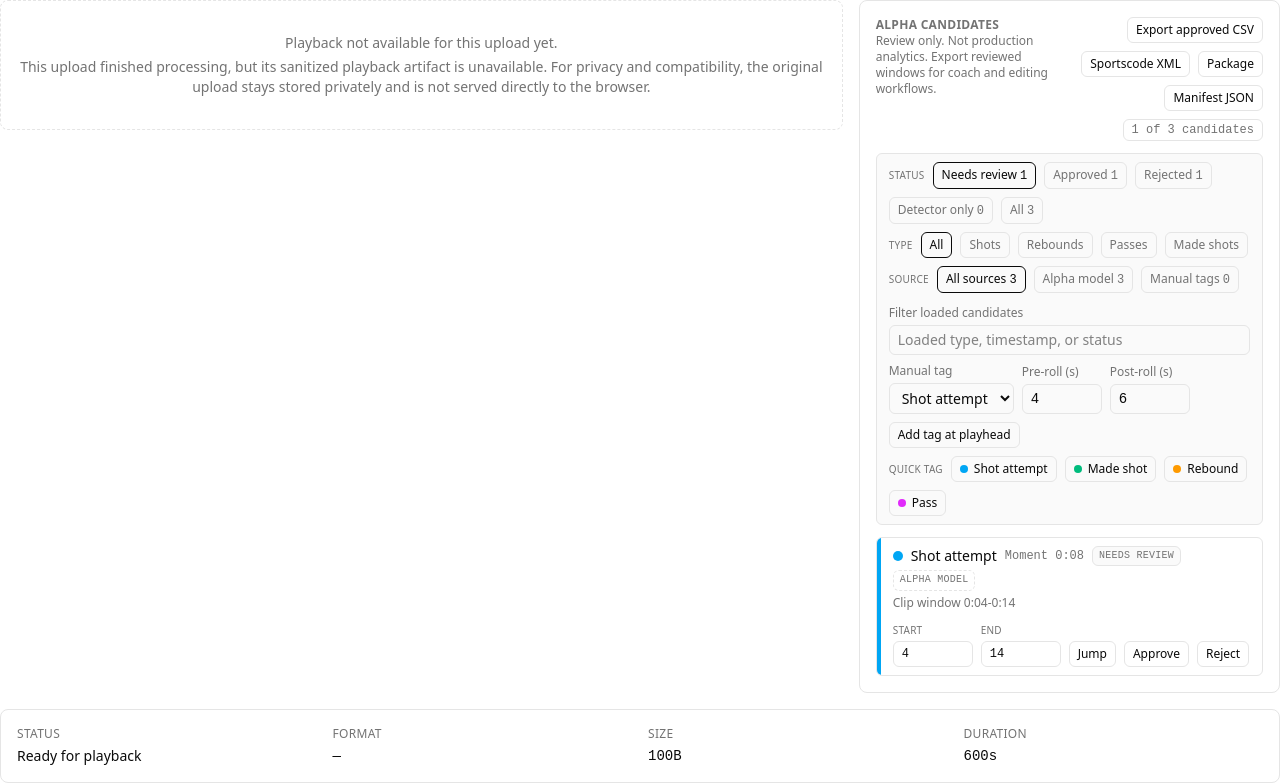
Test: VideoPlaybackView › filters candidates by event type and review status, and keeps reviewed candidates visible
Expected: the number of list items with test id "candidate-row" is 1, [877,538,1262,675]
Note: Approved candidates remain discoverable once the filter switches.
Click the button with test id "candidate-status-filter-approved".
click(1086, 176)  # box [1044,162,1127,189]
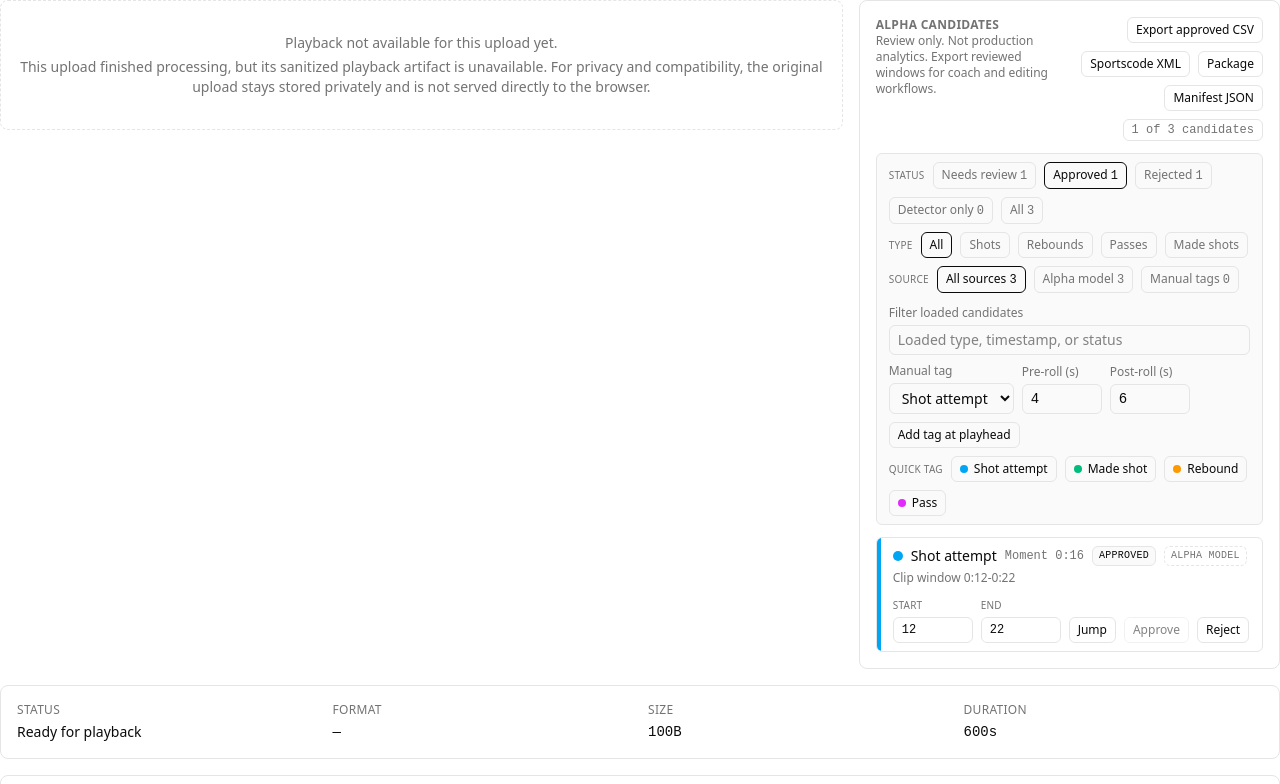
Expected: the number of list items with test id "candidate-row" is 1, [877,538,1262,651]
Note: Rejected too.
Click the button with test id "candidate-status-filter-rejected".
click(1173, 176)  # box [1135,162,1212,189]
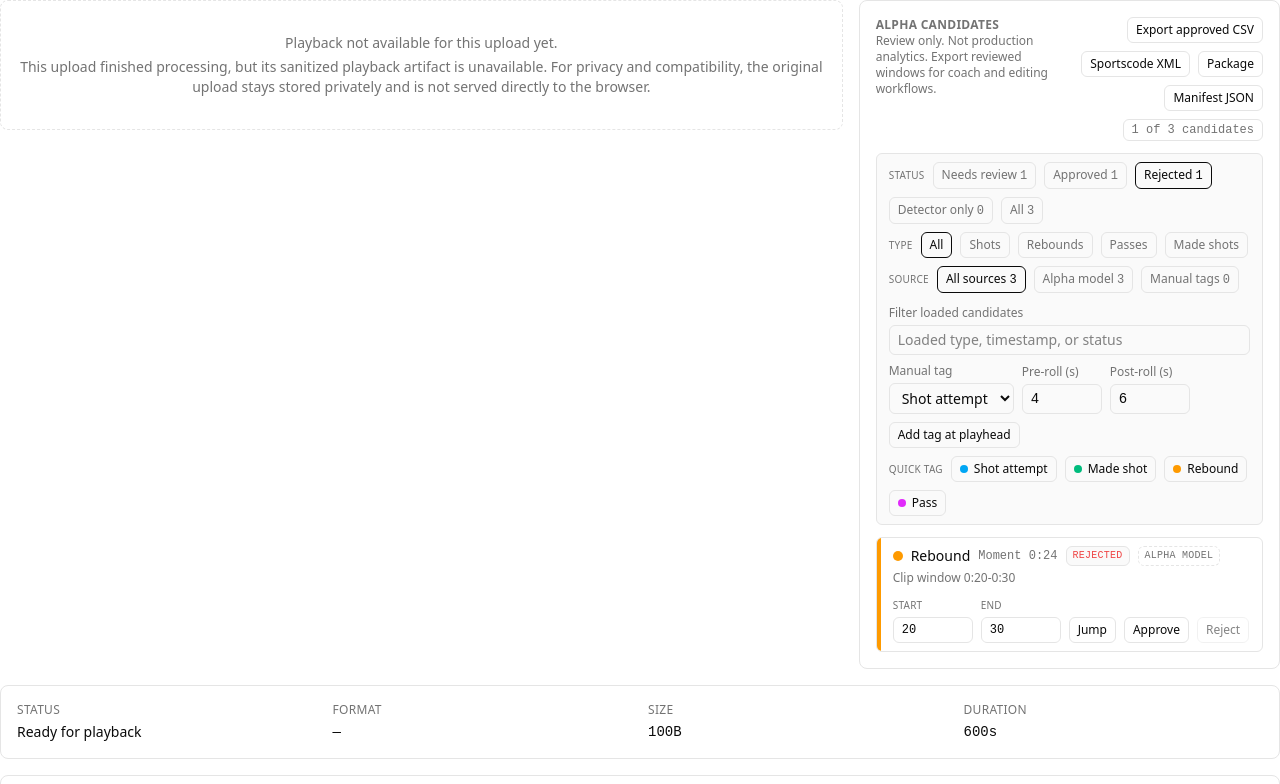
Expected: the number of list items with test id "candidate-row" is 1, [877,538,1262,651]
Note: All status + Rebounds type filter narrows on the server side.
Click the button with test id "candidate-status-filter-all".
click(1022, 210)  # box [1001,197,1043,224]
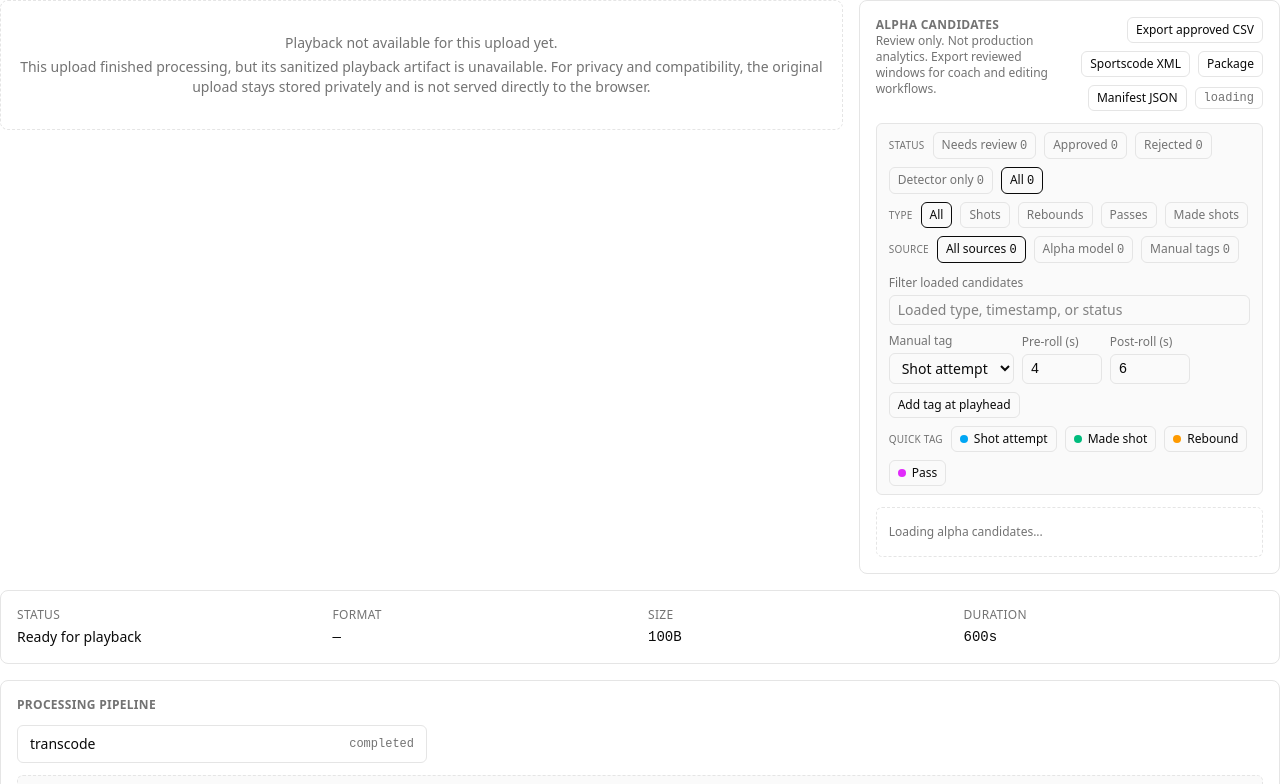
Click the button with test id "candidate-type-filter-rebound".
click(1055, 215)  # box [1018,202,1092,228]
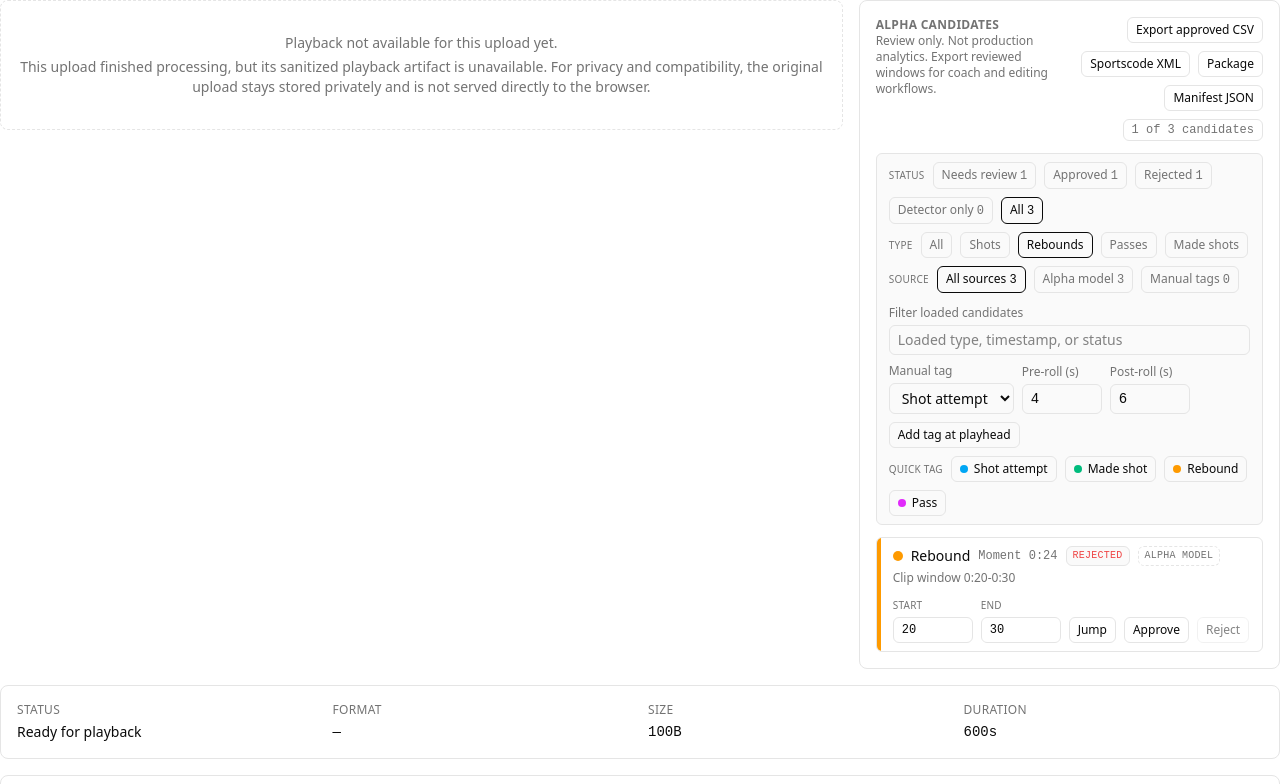
Result: the number of list items with test id "candidate-row" is 1 at [877,538,1262,651]
